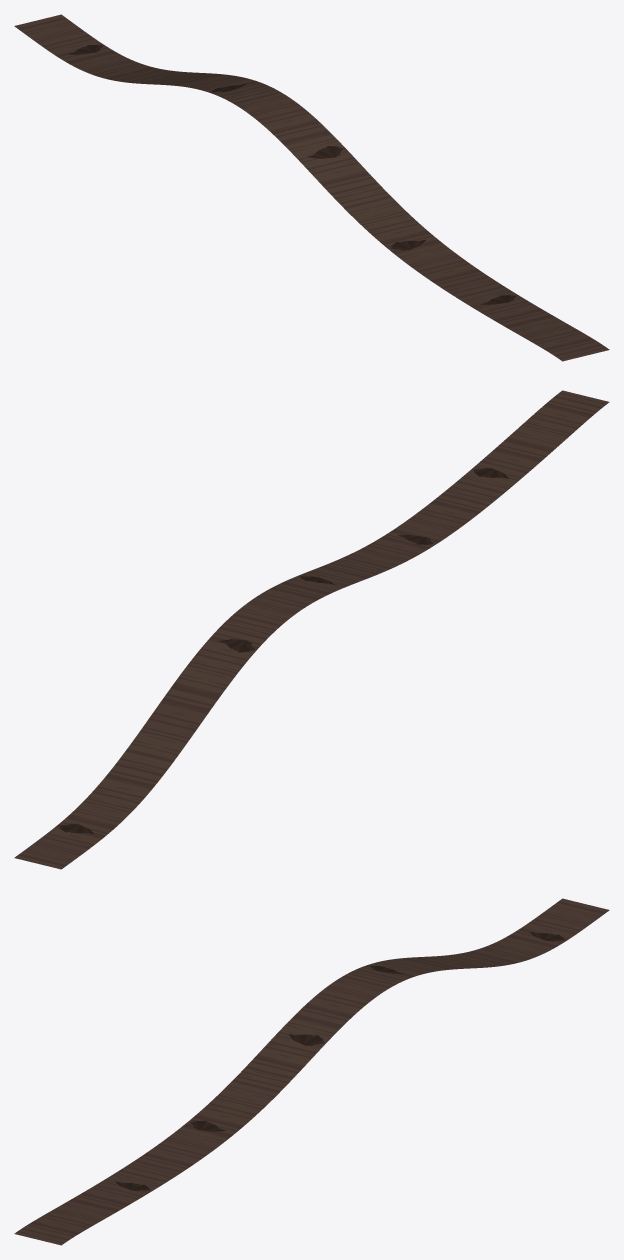
3 views of the same model, one above another, from view 1: azimuth 30°, elevation 25°; view 2: azimuth 150°, elevation 25°; view 3: azimuth 330°, elevation 25° (orthographic).
Parts seen in each view (by area): view 1: Default; view 2: Default; view 3: Default.
Part boxes in pixels (bbox=[...]): Default: bbox=[14, 14, 609, 361]; Default: bbox=[14, 390, 609, 869]; Default: bbox=[14, 898, 609, 1245].
Size of the model in its own units: 120 by 203 by 2400.
1 material, 1 textured.
